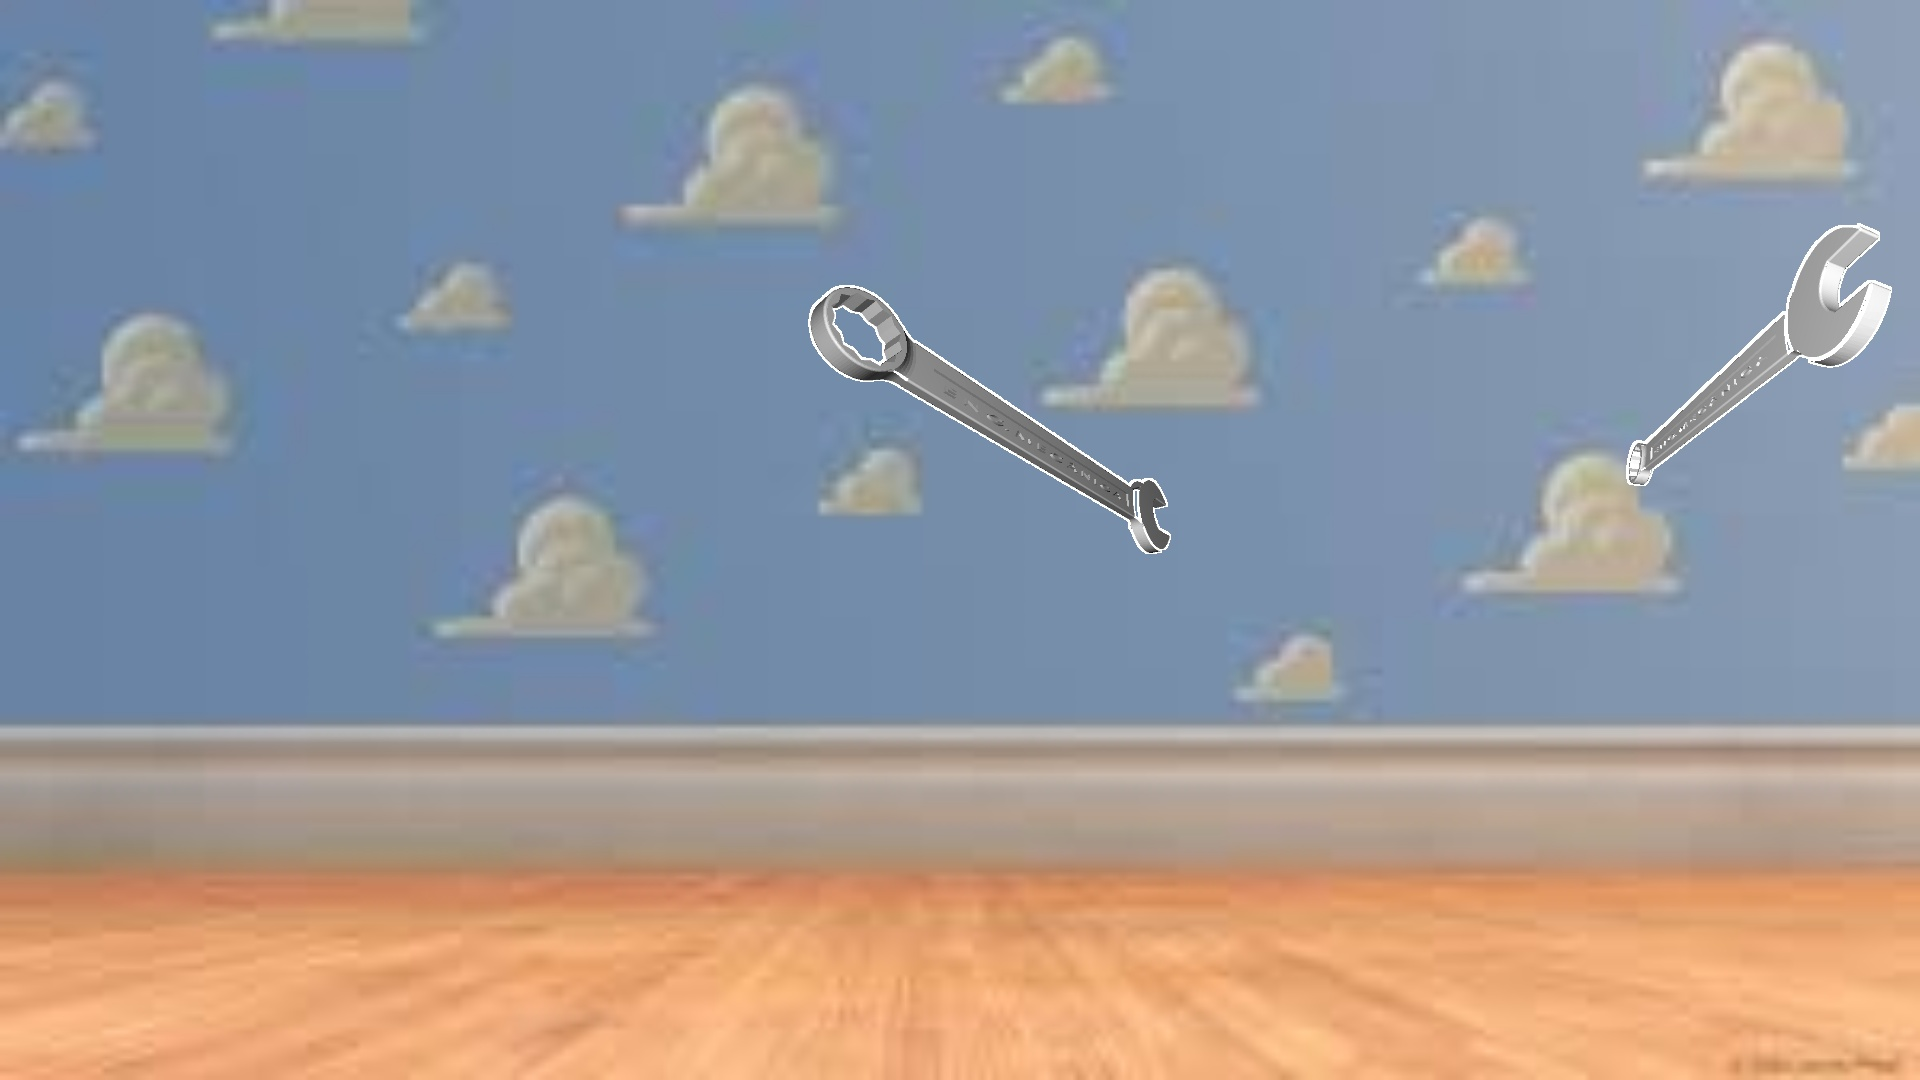Mixed Key: (808, 285, 1170, 553), (1626, 223, 1891, 485)
